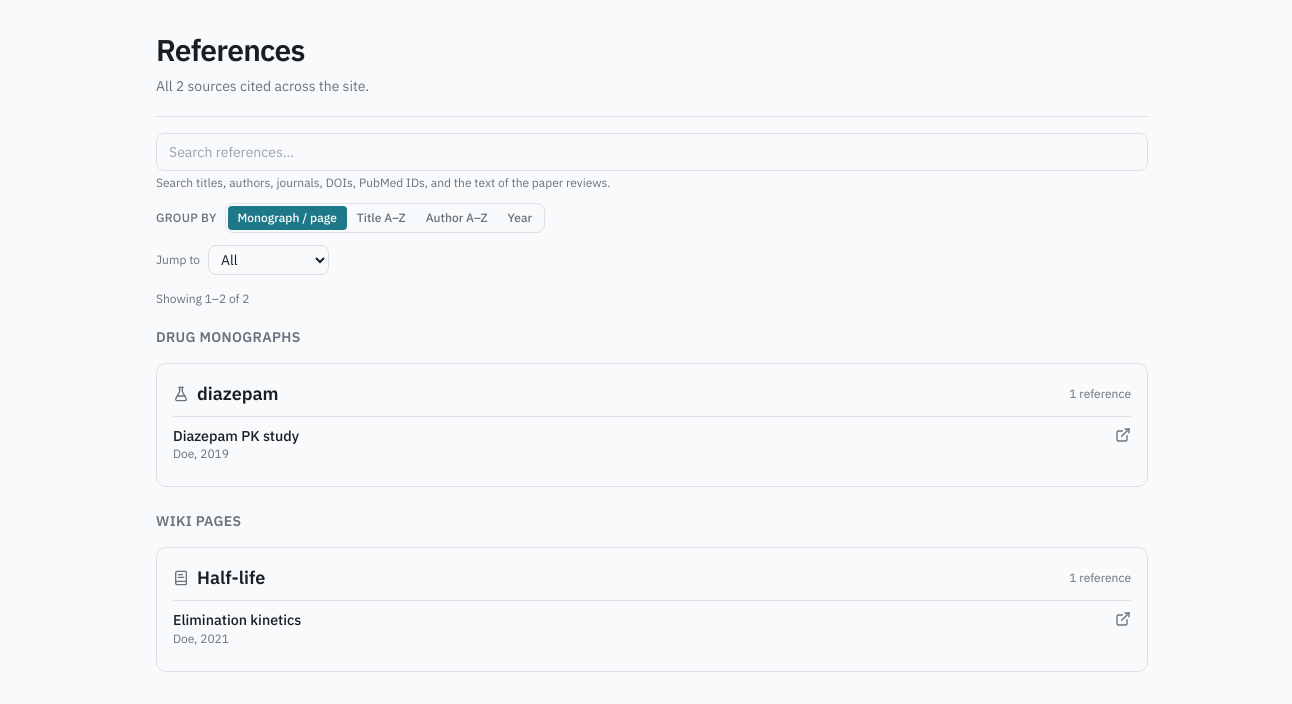
Test: ReferencesPage › switches the grouping axis and renders year buckets
Expected: the heading "Drug monographs" is shown, [156,328,301,346]
Click the button "Year" at (520, 218), box [498,206,542,230]
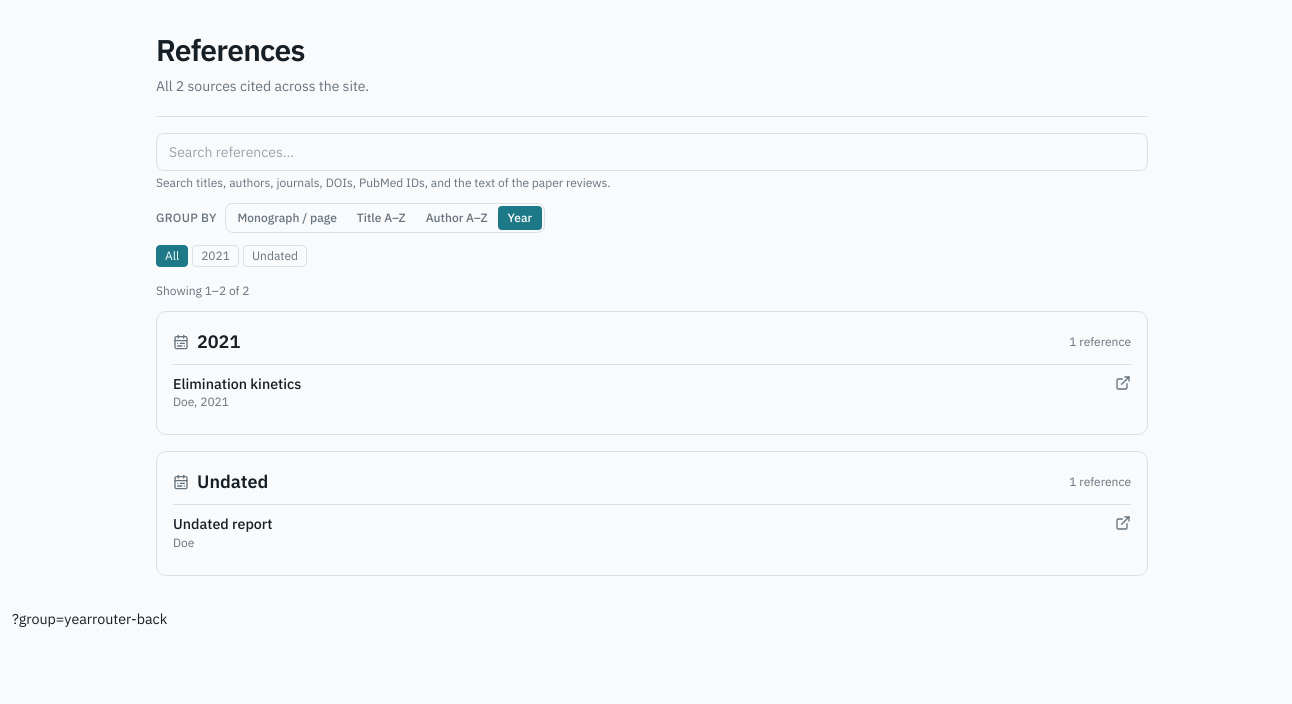
Expected: the button "Undated" is shown, [243,245,307,267]
Expected: the button "2021" is shown, [192,245,239,267]
Expected: the link "Undated report" is shown, [173,514,273,533]
